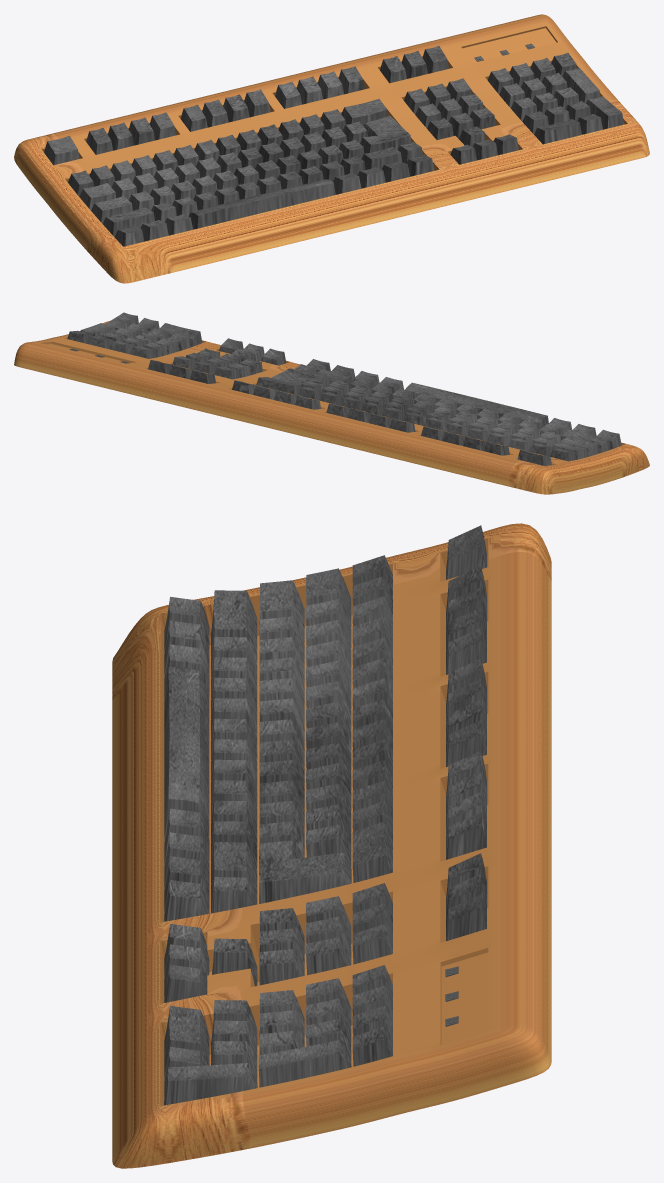
Rendered from Keyboard.fbx.
3 renders of one model, top to bottom at view 1: azimuth 30°, elevation 25°; view 2: azimuth 150°, elevation 25°; view 3: azimuth 270°, elevation 25°, orthographic. The views are drawn at different scales.
Parts seen in each view (by area): view 1: Keys, Body; view 2: Keys, Body; view 3: Body, Keys.
Boxes of the visible parts, left/top/right/bottom form: Keys: left=44, top=46, right=623, bottom=246; Body: left=14, top=14, right=649, bottom=283; Keys: left=67, top=312, right=621, bottom=465; Body: left=14, top=320, right=649, bottom=494; Body: left=112, top=523, right=551, bottom=1168; Keys: left=164, top=525, right=486, bottom=1105.
Bounding box in the file's own units: 255 × 32.84 × 90.66.
2 materials, 2 textured.
